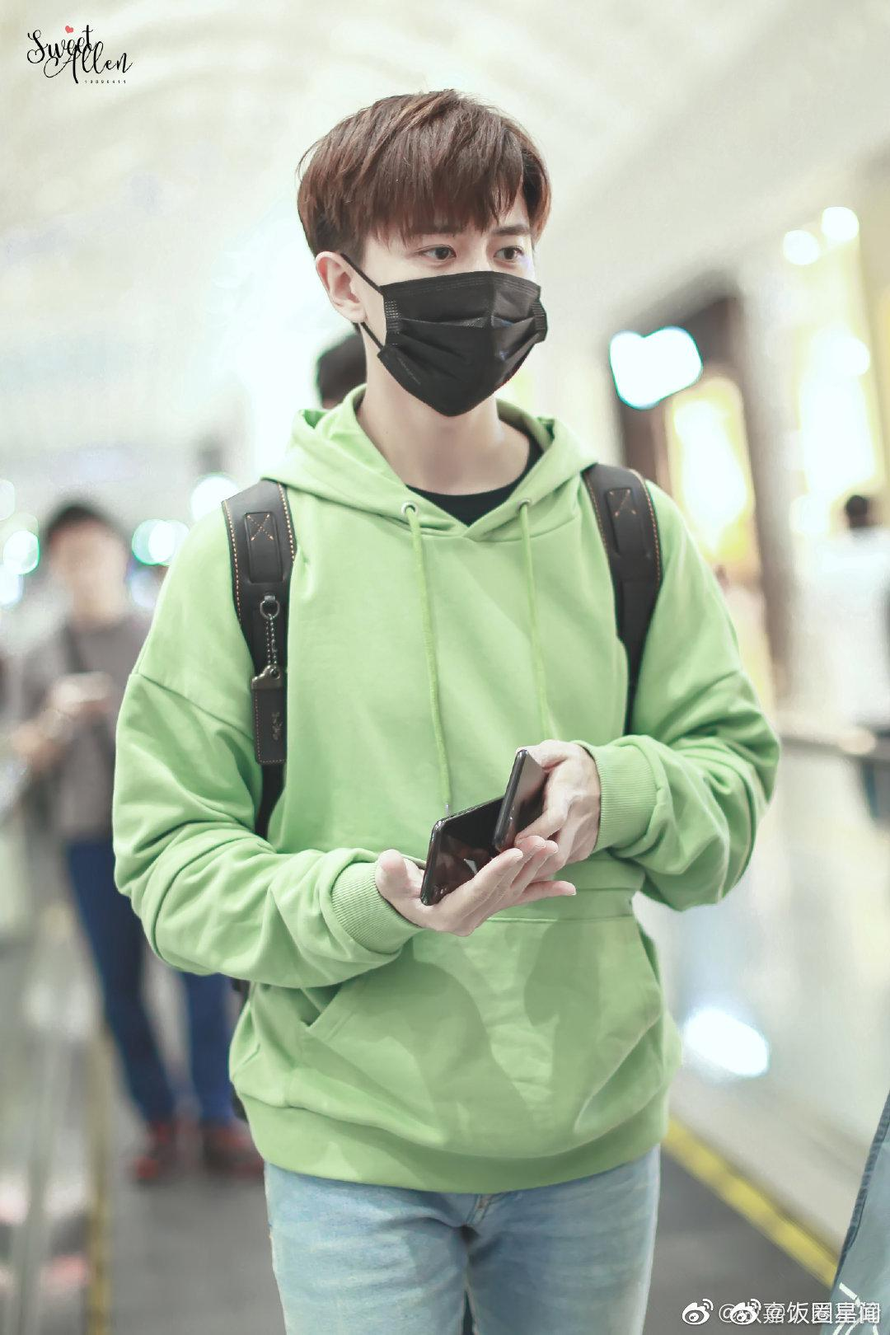OK: (372, 218, 546, 417)
